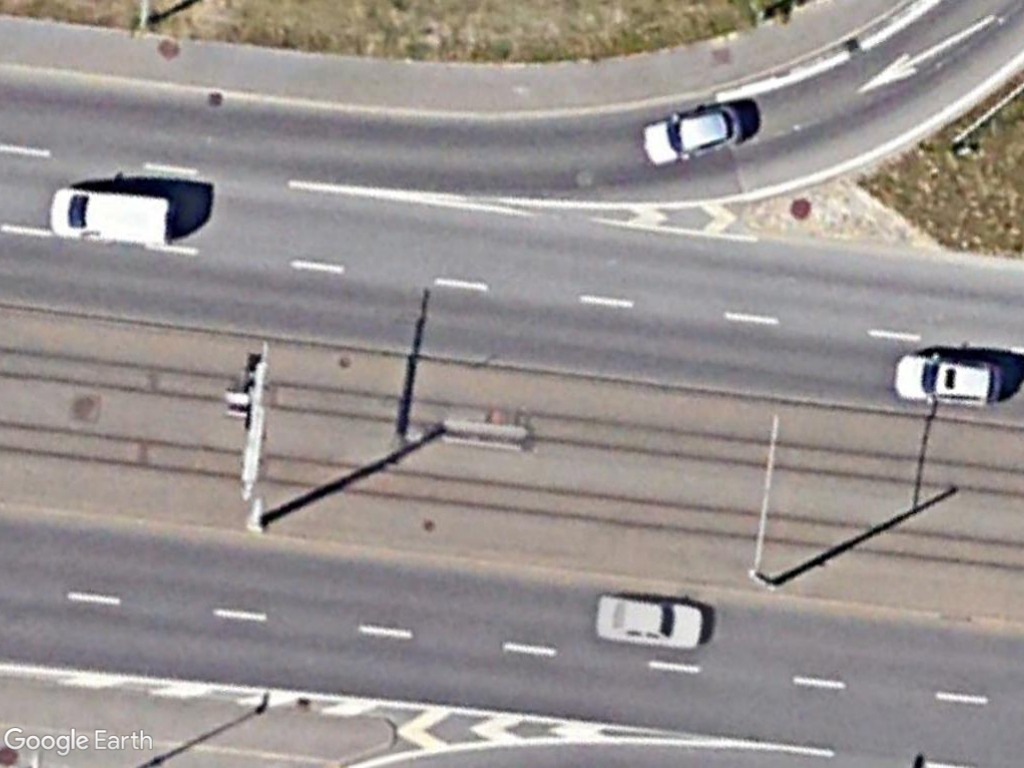car: (638, 100, 748, 172), (889, 349, 1008, 409), (594, 590, 707, 651)
van: (44, 180, 176, 250)
